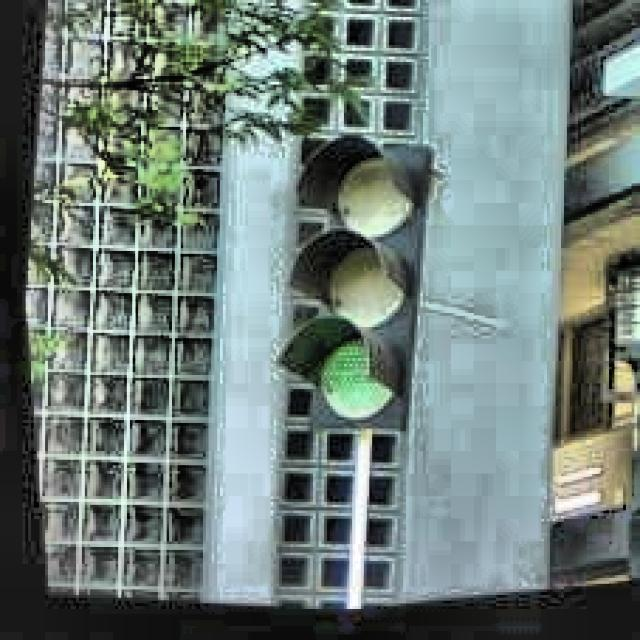green: (251, 130, 443, 451)
